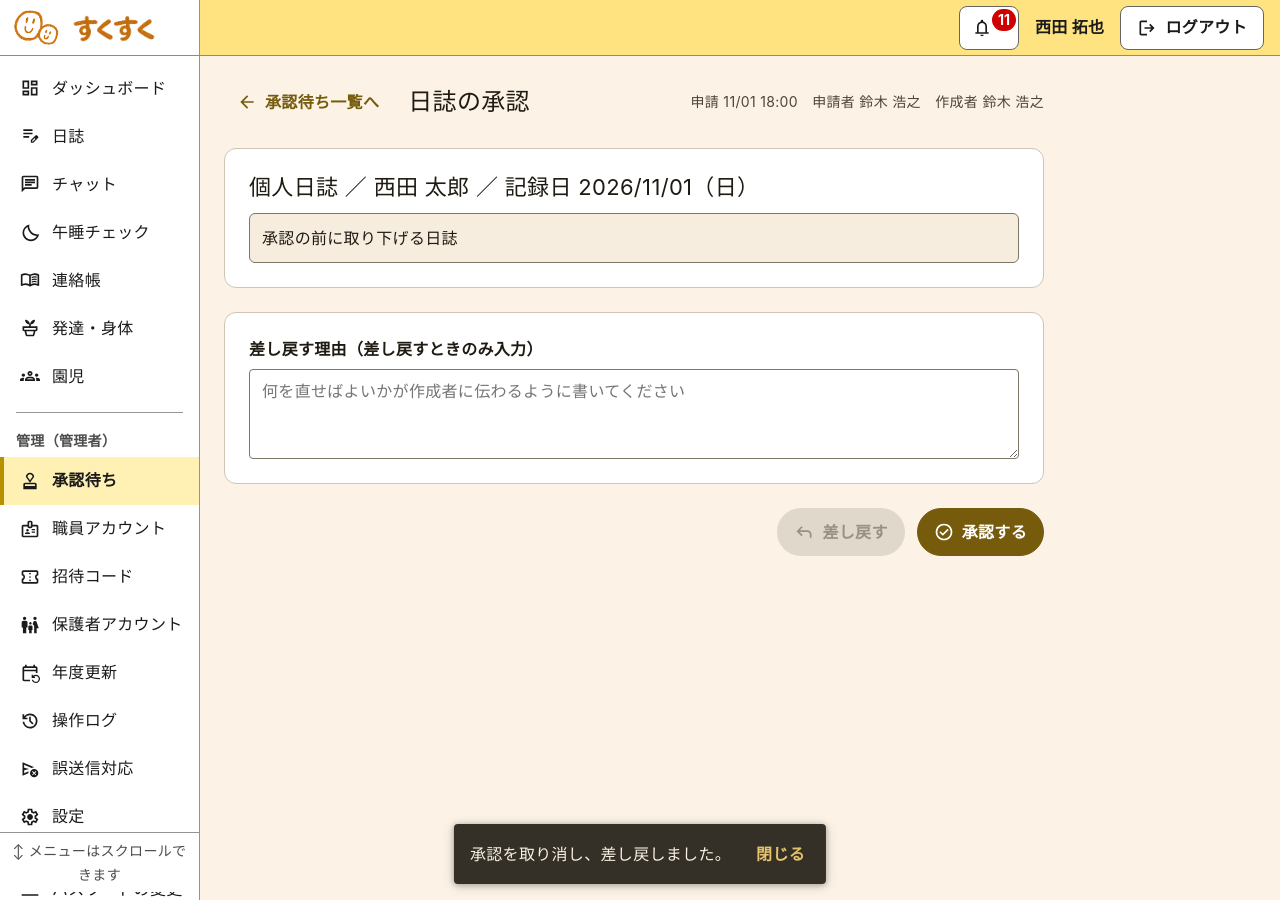
Test: 承認待ち一覧画面と日誌承認画面（2-13 (1)） › 承認画面は保護者への共有を置かず、開いたあとに取り下げられたら「取り下げられました」を出して押せなくする
Click the button "承認する" at [980, 532], box 917,508 -> 1044,556
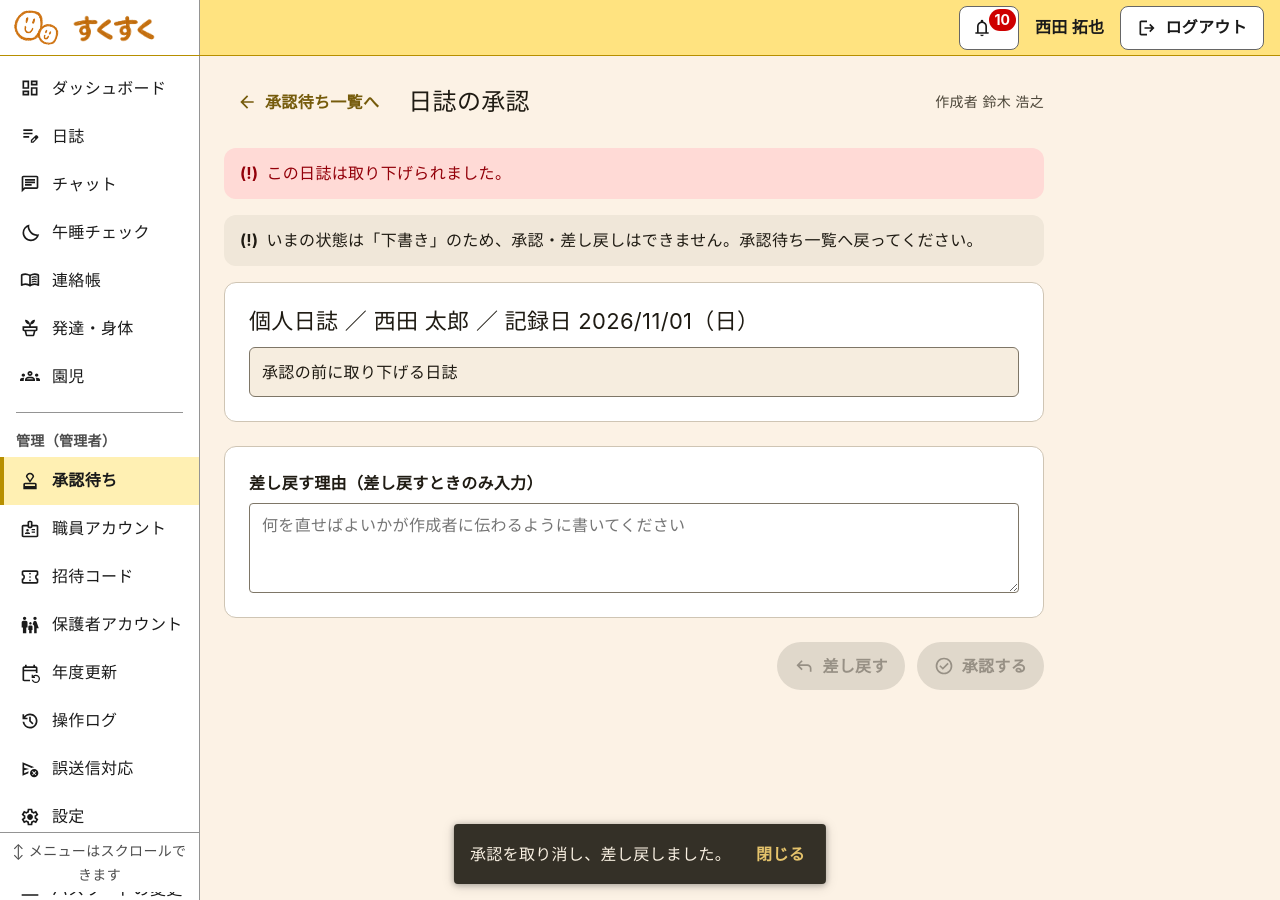
Expected: the button "差し戻す" is disabled, 777,642 -> 905,690
Result: the text "この日誌は取り下げられました。" is shown at 266,160 -> 511,187
Result: the button "承認する" is disabled at 917,642 -> 1044,690
